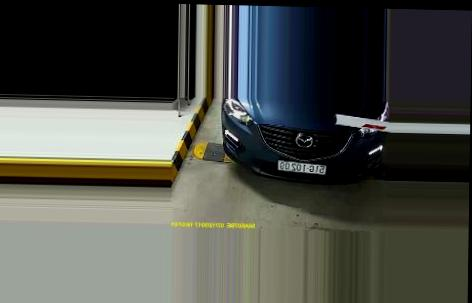License_Plate: (280, 160, 329, 176)
